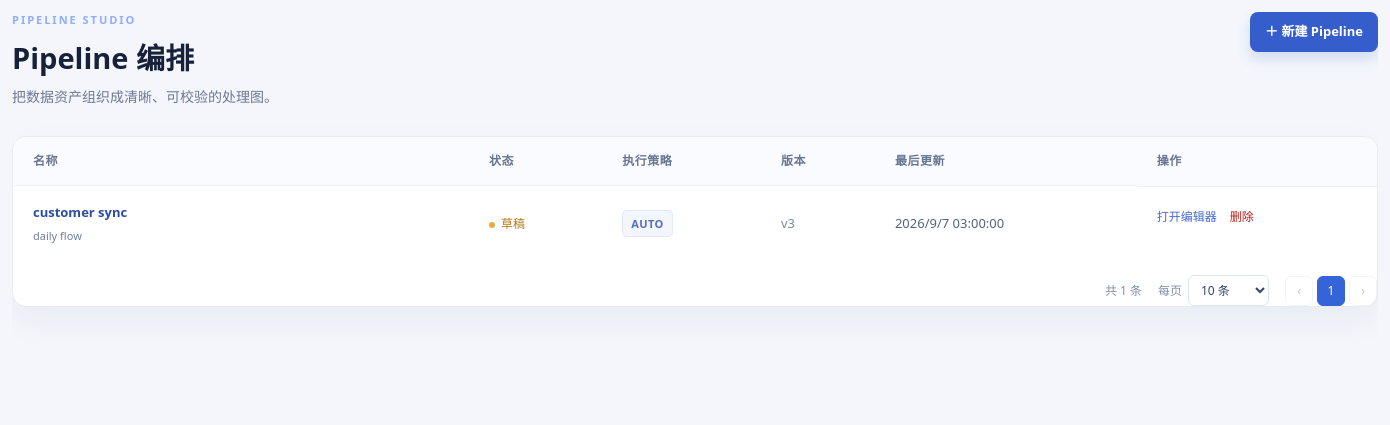
Scenario: PipelineListView › deletes a pipeline after confirmation and shows the empty state
This screenshot has width=1390, height=425.
Click the button with test id "delete-pipeline": point(1242, 216) [1230,204,1254,230]
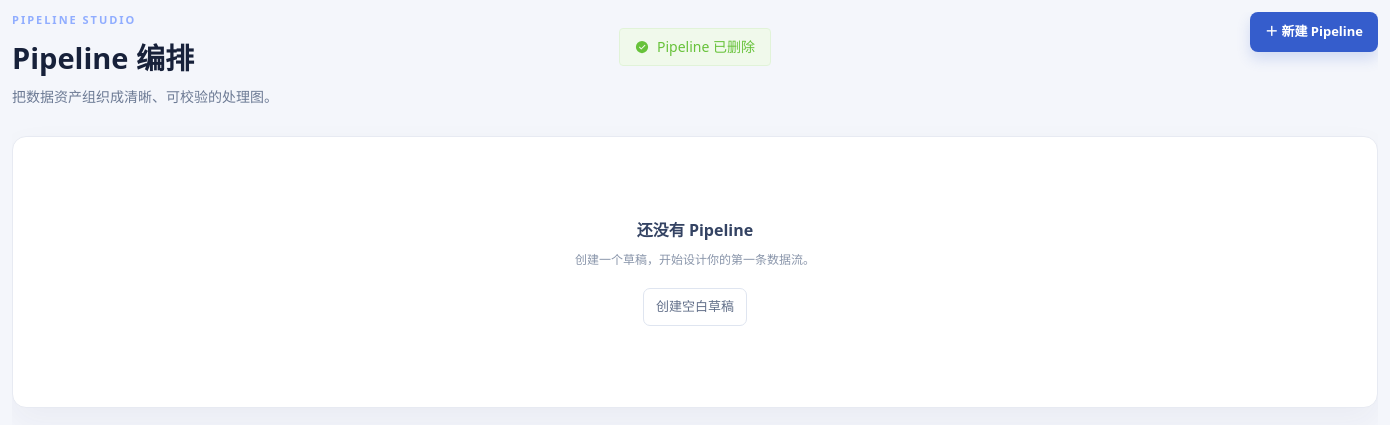
Expected: the text "还没有 Pipeline" is shown, [637,219,753,241]
